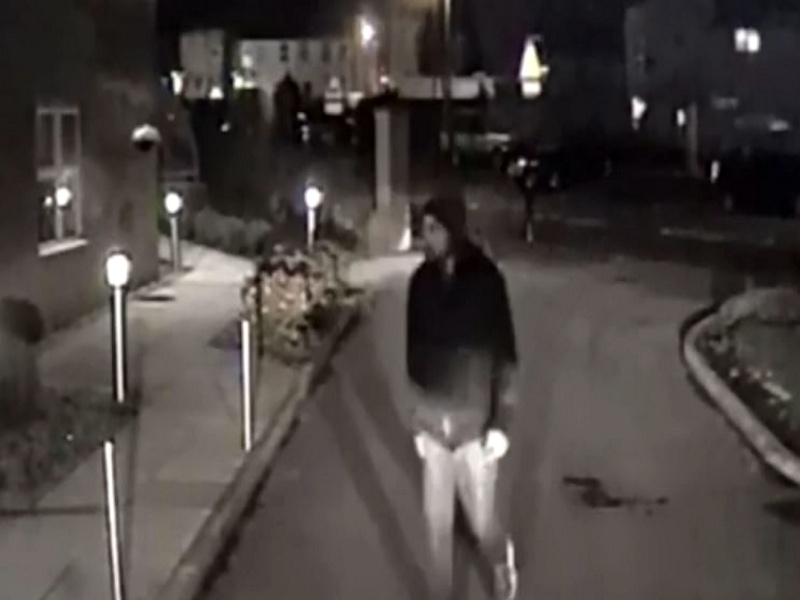person: (401, 191, 527, 600)
